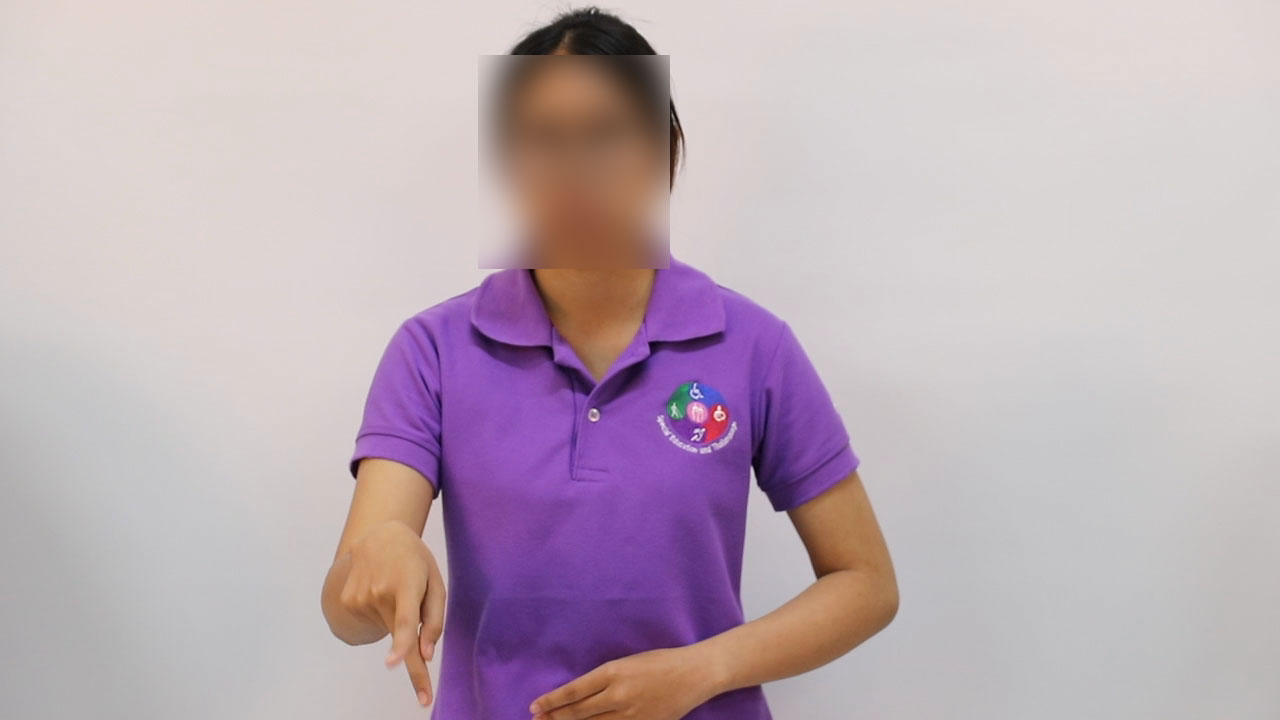por: (333, 514, 462, 710)
